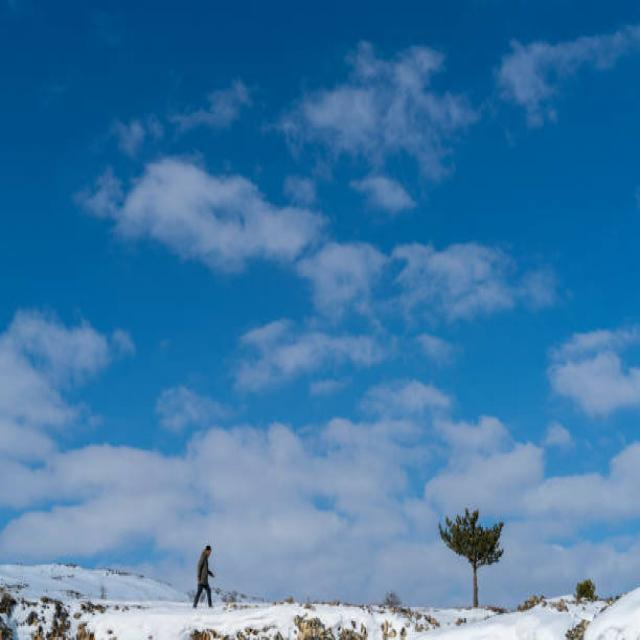tree: (448, 500, 508, 616)
